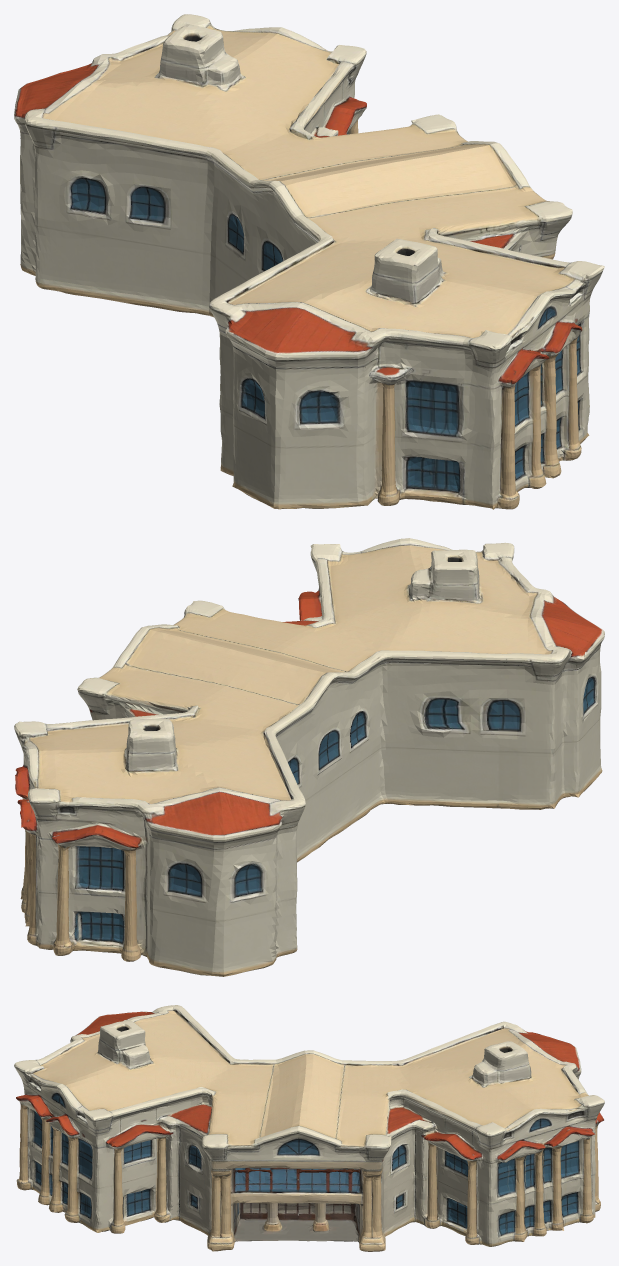
The model's file is mba_block.glb.
The picture shows the model from 3 angles, top to bottom: view 1: azimuth 30°, elevation 25°; view 2: azimuth 150°, elevation 25°; view 3: azimuth 270°, elevation 25°; orthographic projection. The views are drawn at different scales.
Parts seen in each view (by area): view 1: tripo_node_a58c01a7-54d3-40c5-af92-ce231b663cd8; view 2: tripo_node_a58c01a7-54d3-40c5-af92-ce231b663cd8; view 3: tripo_node_a58c01a7-54d3-40c5-af92-ce231b663cd8.
Part boxes in pixels (x1,y1,x2,y2): tripo_node_a58c01a7-54d3-40c5-af92-ce231b663cd8: (14, 14, 604, 509); tripo_node_a58c01a7-54d3-40c5-af92-ce231b663cd8: (14, 538, 604, 976); tripo_node_a58c01a7-54d3-40c5-af92-ce231b663cd8: (14, 1005, 604, 1251).
Size of the model in its own units: 0.528 by 0.2772 by 0.9906.
1 material, 1 textured.
